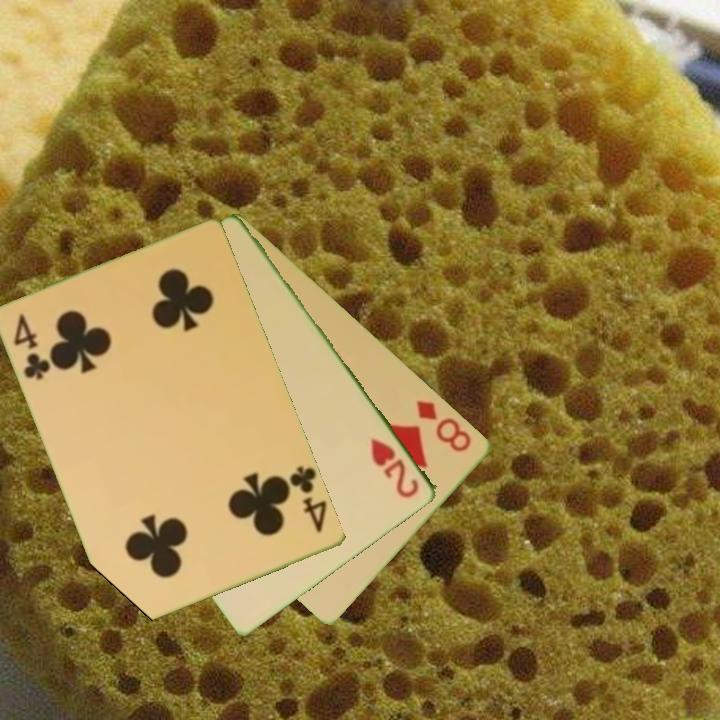2h: (367, 434, 423, 502)
4c: (286, 462, 331, 536), (10, 310, 54, 383)
8d: (413, 396, 475, 455)
